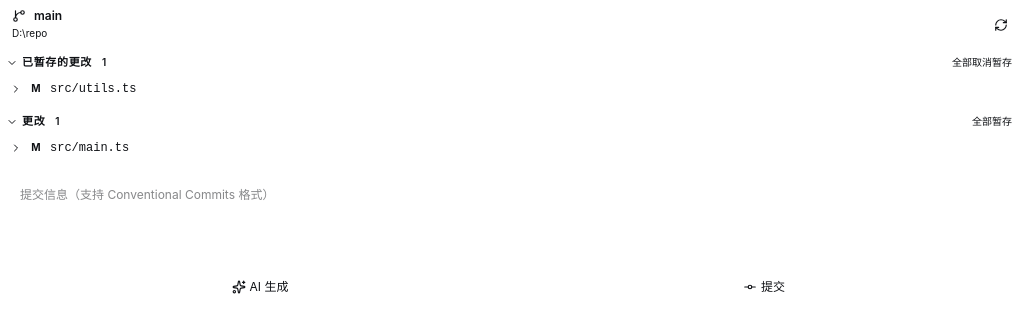
Test: SourceControlPanel › generates a commit message via AI
Expected: the text "src/main.ts" is shown, [50, 141, 129, 155]
Click the button "AI 生成" at (260, 287), box [12, 273, 508, 301]
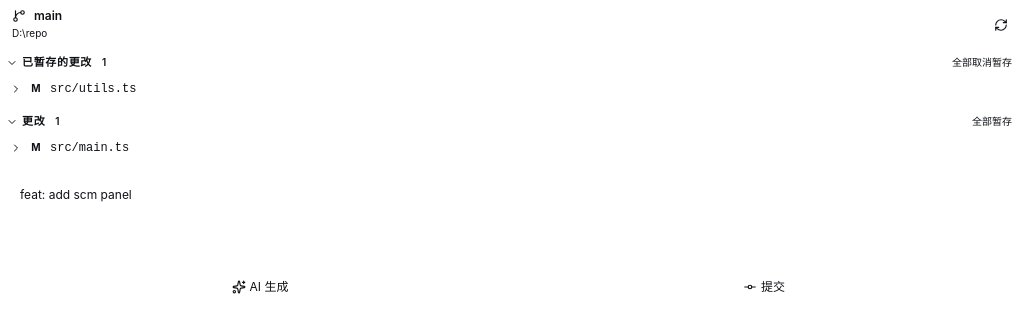
Result: the text box with placeholder "提交信息（支持 Conventional Commits 格式）" holds "feat: add scm panel" at [12, 179, 1012, 259]
